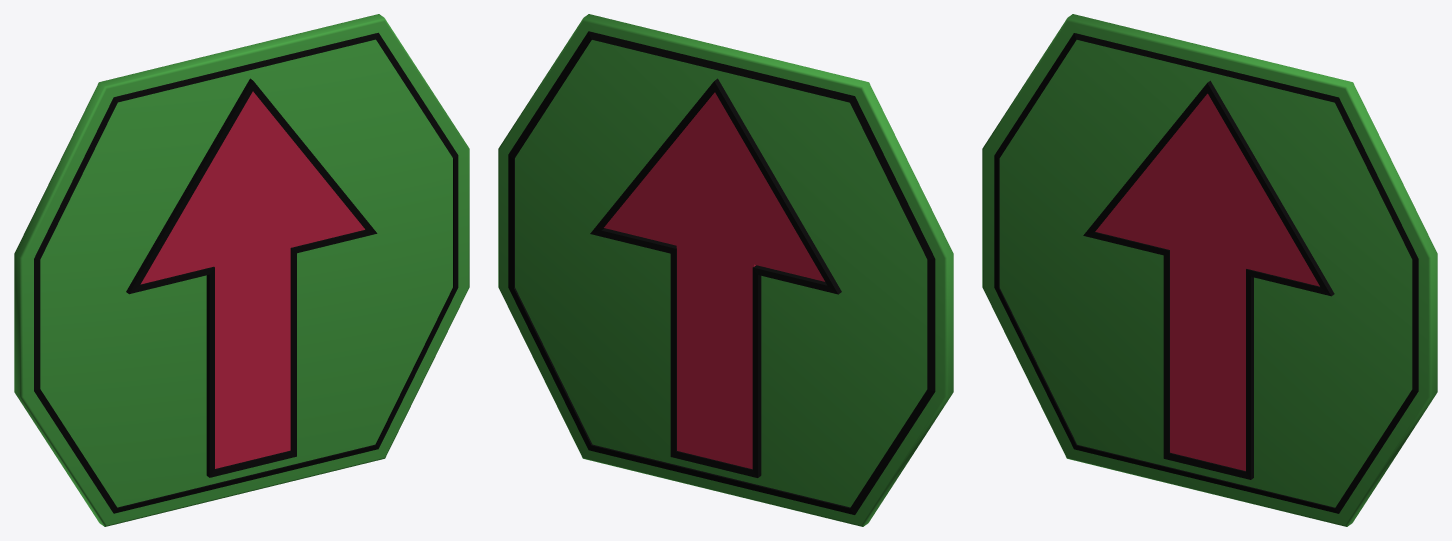
The model's file is Hexagon_UpArrow.fbx.
3 views of the same model, side by side, from view 1: azimuth 30°, elevation 25°; view 2: azimuth 150°, elevation 25°; view 3: azimuth 330°, elevation 25° (orthographic).
Parts seen in each view (by area): view 1: outer_HexagonUp; view 2: outer_HexagonUp; view 3: outer_HexagonUp.
Part boxes in pixels (bbox=[...]): outer_HexagonUp: bbox=[14, 14, 469, 526]; outer_HexagonUp: bbox=[498, 14, 953, 526]; outer_HexagonUp: bbox=[982, 14, 1437, 526].
Bounding box in the file's own units: 151 × 142 × 8.41.
4 materials, 4 textured.
